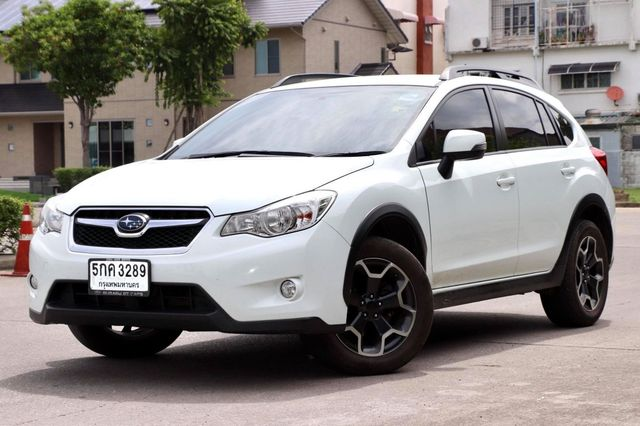pickup: (27, 67, 616, 373)
